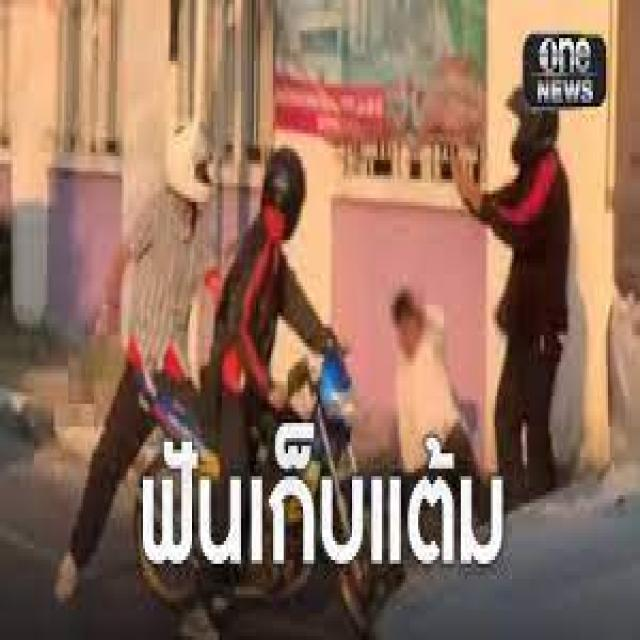helmet: (258, 140, 310, 244), (162, 123, 219, 209), (507, 88, 559, 166)
